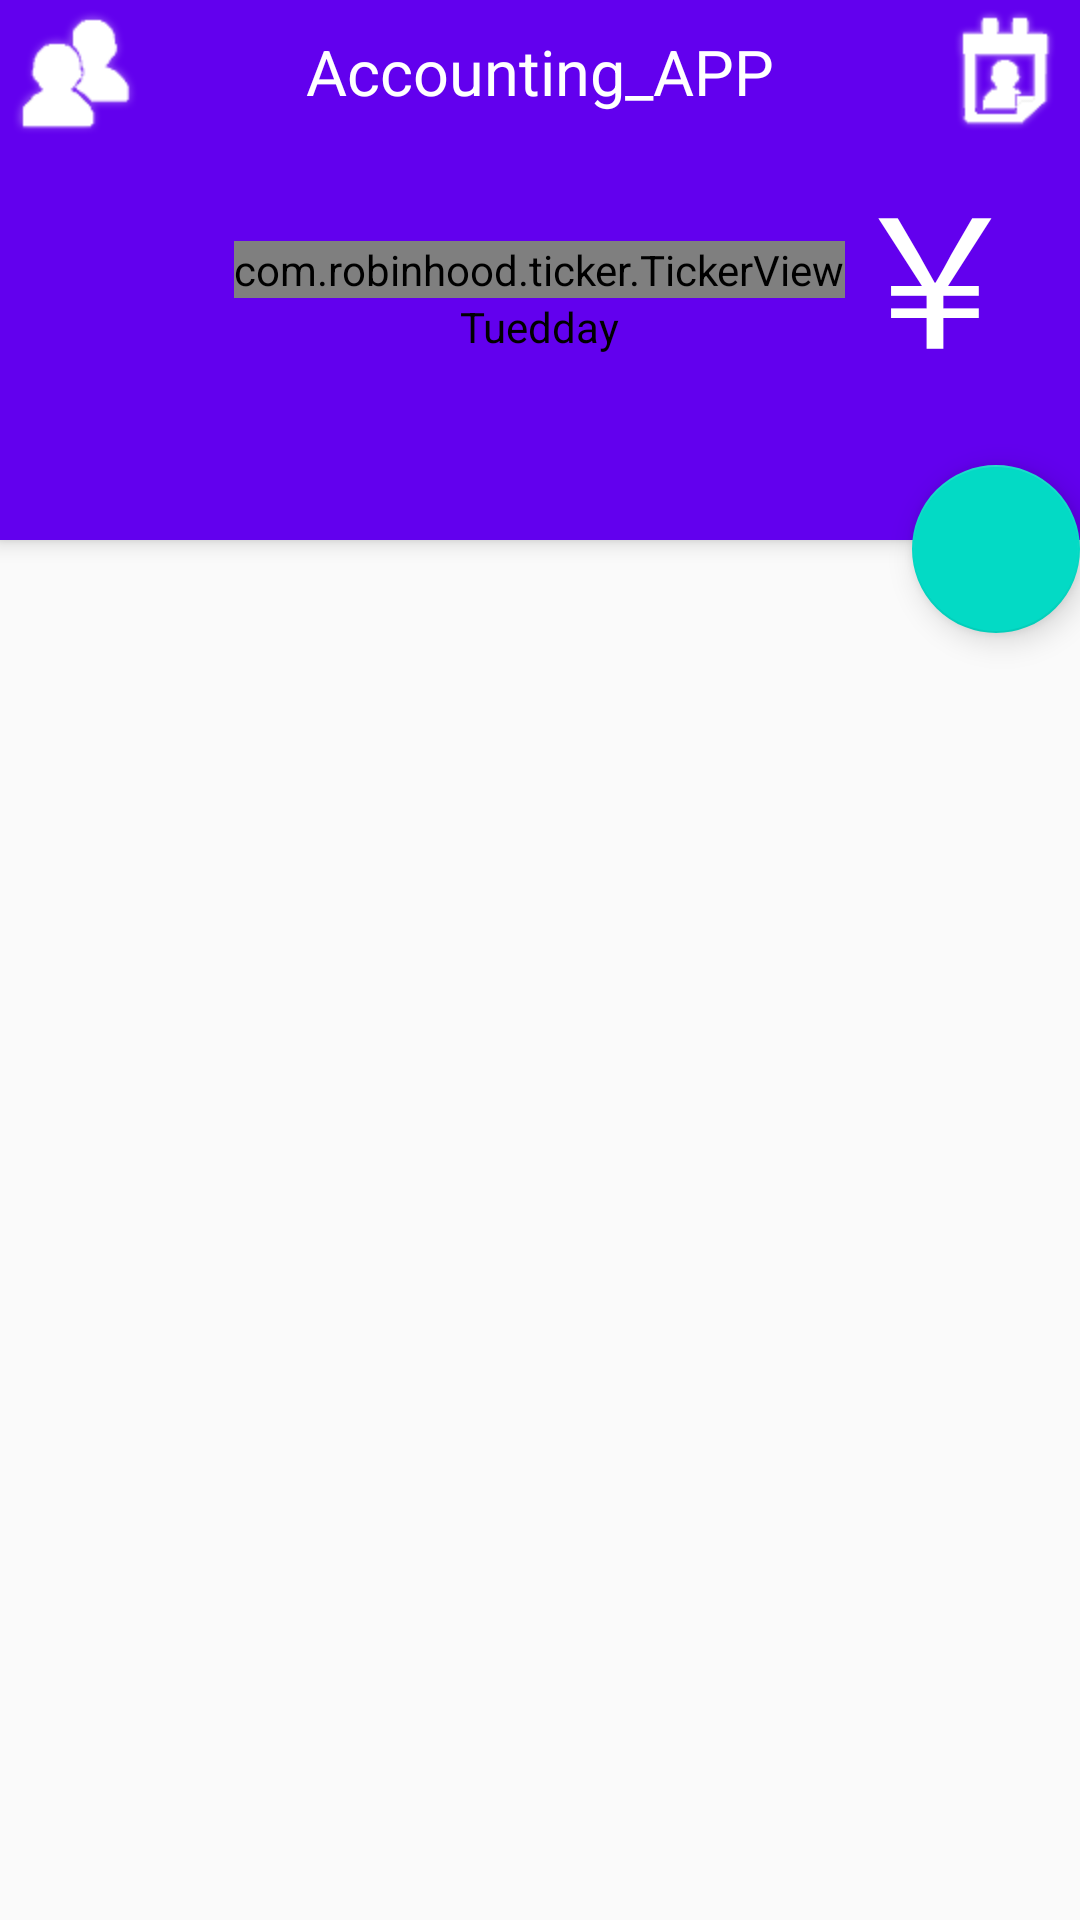

Icon click points for this 1080 × 1920 phone screenshot, format [x,y]:
calendar: [1005,70]
